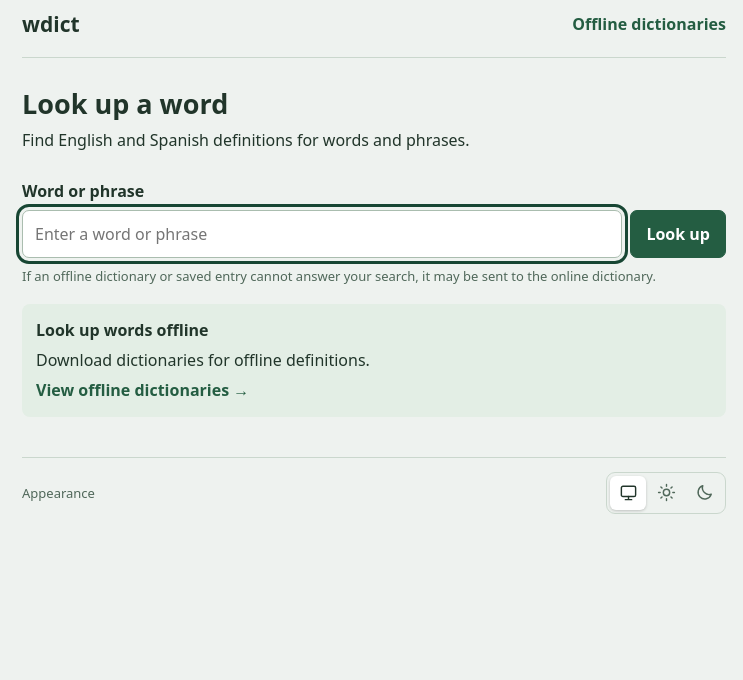
Scenario: lookup and offline dictionary UI › given_one_missing_and_one_unavailable_when_search_completes_then_unavailable_is_shown
Click the button "Look up".
click(678, 234)  # box [630,210,726,258]
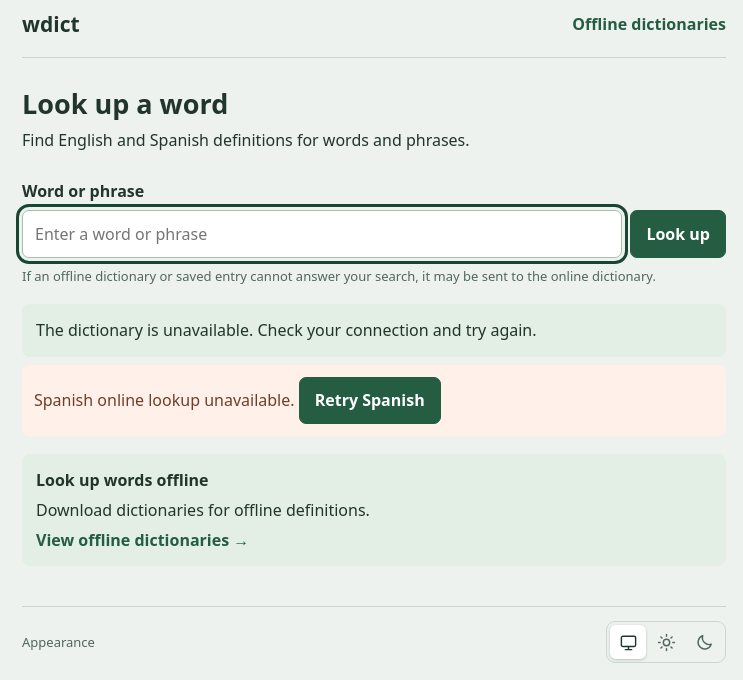
Check: the text "The dictionary is unavailable. Check your connection and try again." is shown, box [22,304,726,357]
